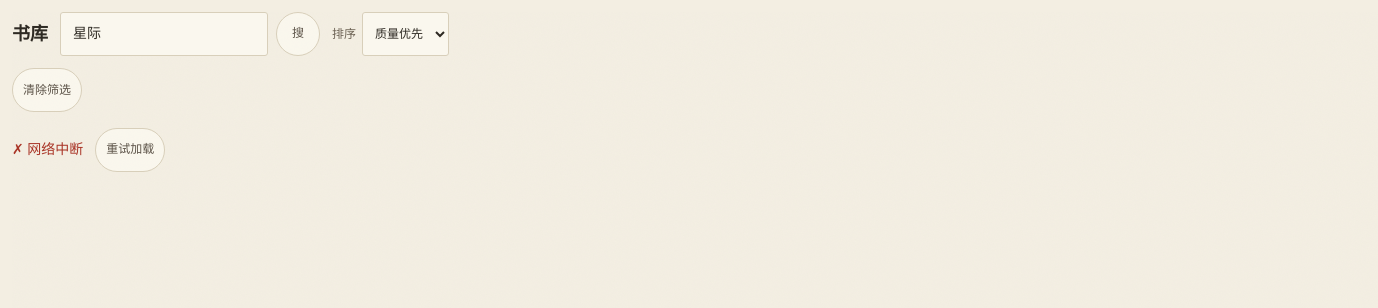
Test: 书库加载失败恢复 › 相同搜索条件失败后再次点搜会重发请求，不必改字或切换标签
Expected: the message "✗ 网络中断 重试加载" is shown, [12, 128, 165, 172]
Click the button "搜" at [298, 34], box [276, 12, 320, 56]
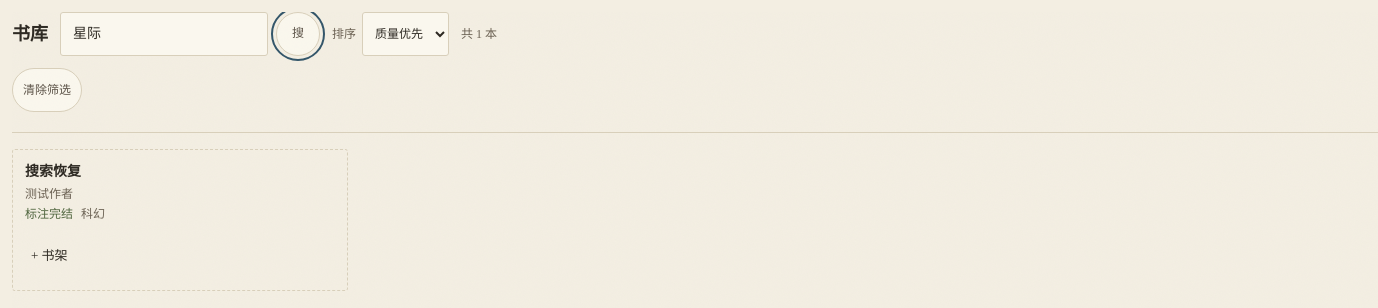
Now the button with aria-label "查看搜索恢复详情" is shown, box [13, 150, 346, 234]
